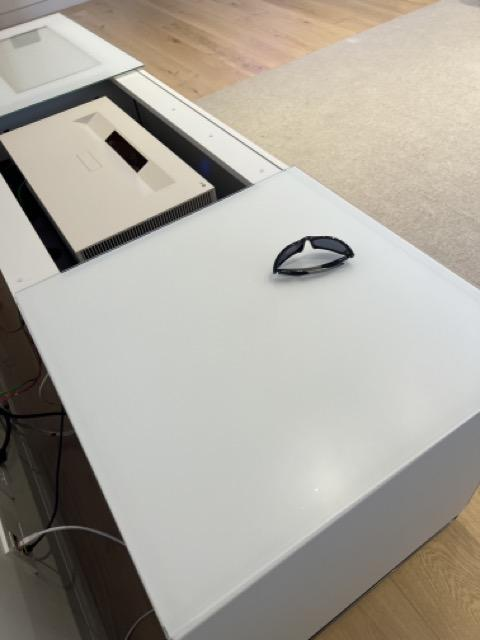Sunglasses: (273, 233, 355, 278)
